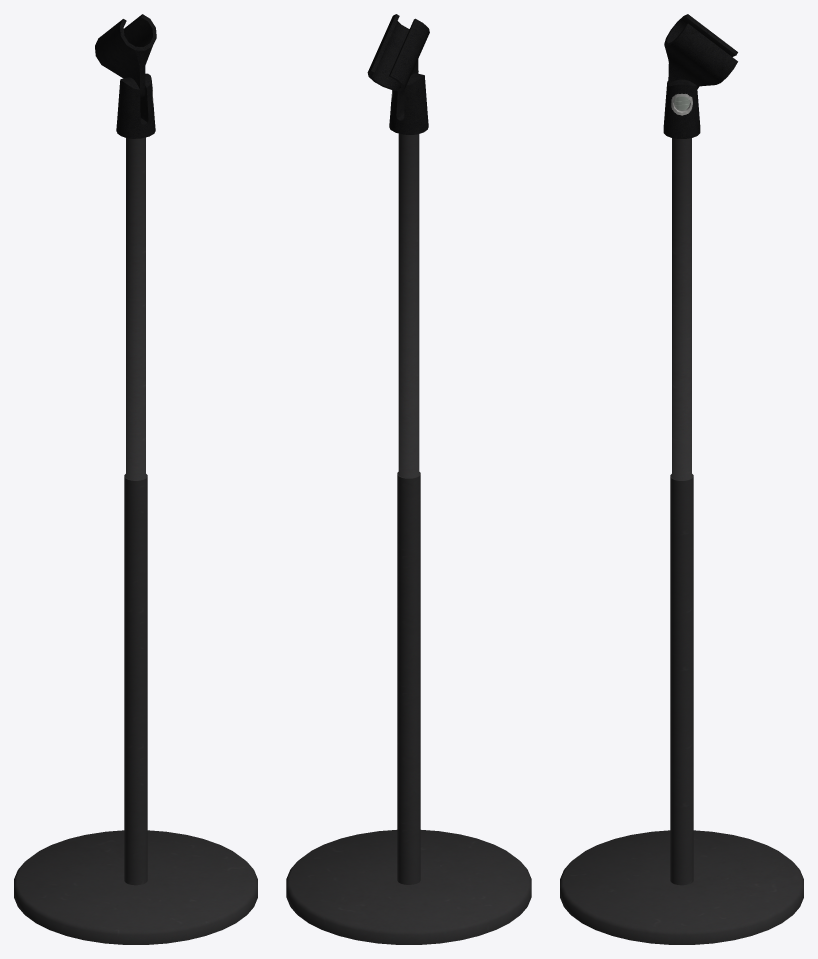
Rendered from MicrophoneStand01.FBX.
3 views of the same model, side by side, from view 1: azimuth 30°, elevation 25°; view 2: azimuth 150°, elevation 25°; view 3: azimuth 270°, elevation 25° (orthographic).
Visible parts, largest first — view 1: MicrophoneStand01; view 2: MicrophoneStand01; view 3: MicrophoneStand01.
Part boxes in pixels (x1=…): MicrophoneStand01: x1=14, y1=14, x2=257, y2=944; MicrophoneStand01: x1=286, y1=14, x2=531, y2=944; MicrophoneStand01: x1=560, y1=14, x2=803, y2=944.
Bounding box in the file's own units: 37.62 × 149 × 37.65.
